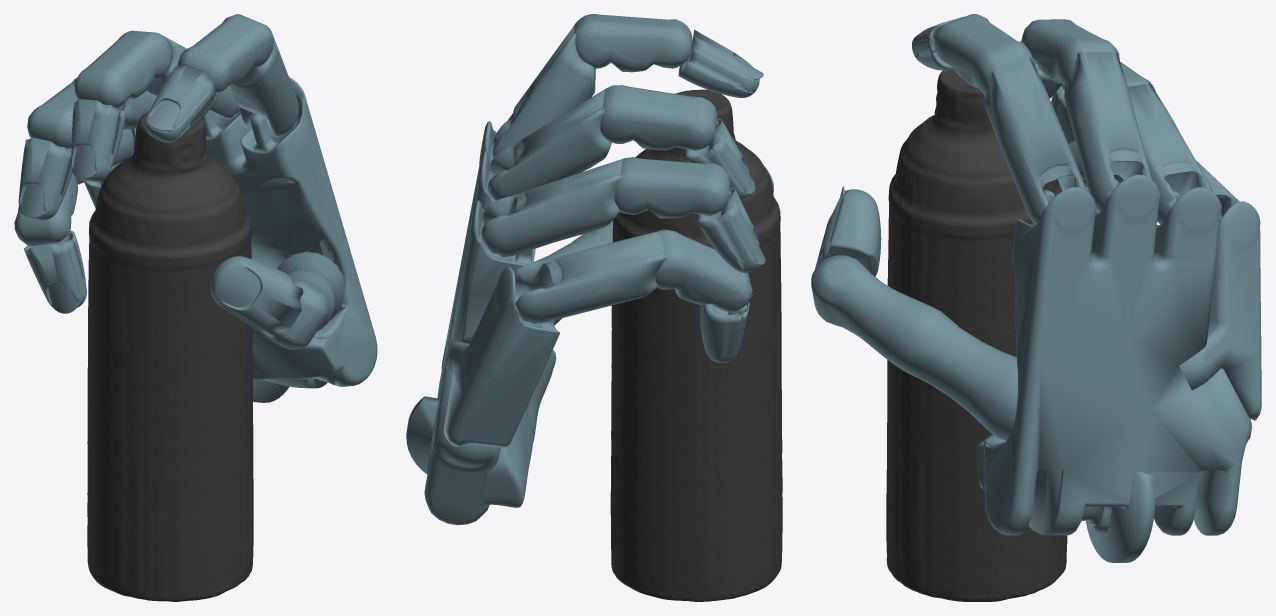
3 views of the same model, side by side, from view 1: azimuth 30°, elevation 25°; view 2: azimuth 150°, elevation 25°; view 3: azimuth 270°, elevation 25° (orthographic). The views are drawn at different scales.
Parts seen in each view (by area): view 1: world; view 2: world; view 3: world.
Boxes of the visible parts, x1,y1,x2,y2 form: world: [14, 14, 377, 601]; world: [406, 14, 782, 601]; world: [811, 14, 1261, 601].
Size of the model in its own units: 0.1299 by 0.1961 by 0.1402.
Materials: 1 (1 with a texture image).
